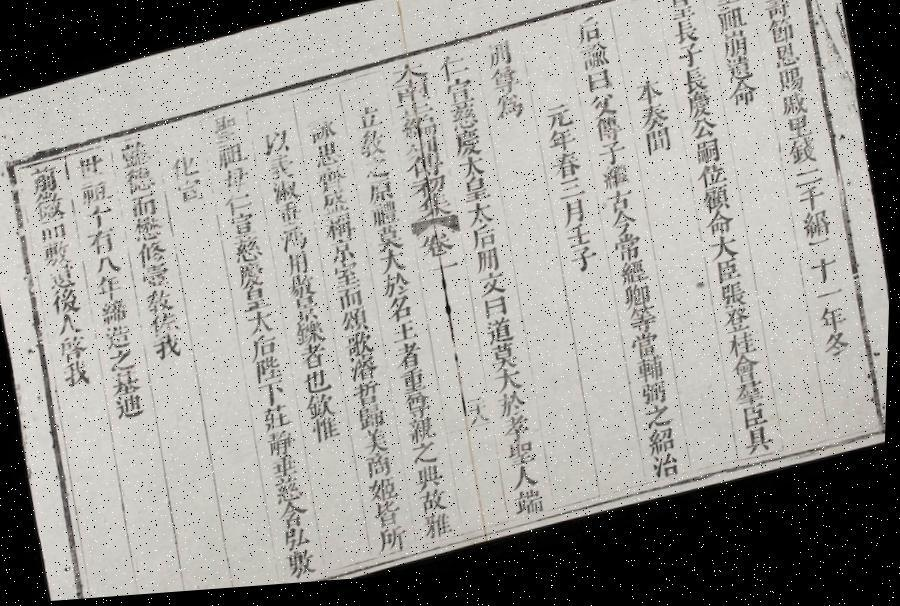c: (416, 233, 460, 270), (403, 153, 447, 189), (397, 116, 442, 151), (29, 188, 70, 226), (412, 196, 456, 230), (799, 218, 838, 256), (282, 550, 323, 586), (406, 176, 452, 208), (480, 44, 520, 80), (390, 84, 434, 116), (785, 146, 823, 183), (206, 114, 244, 151), (807, 264, 845, 301), (116, 138, 155, 174), (445, 106, 484, 142), (512, 493, 552, 528), (54, 332, 94, 367), (386, 64, 432, 94), (628, 338, 666, 374), (271, 476, 309, 512), (26, 162, 64, 198), (815, 314, 853, 350), (150, 332, 188, 368), (570, 21, 609, 56), (59, 358, 98, 393), (392, 100, 439, 129), (486, 70, 524, 105), (576, 47, 614, 82), (724, 88, 762, 123), (548, 156, 586, 191), (108, 368, 147, 402), (420, 514, 459, 548), (76, 177, 115, 211), (434, 56, 473, 90), (354, 131, 390, 167), (450, 133, 487, 168), (376, 528, 414, 562), (486, 347, 524, 381), (728, 364, 766, 398), (742, 435, 780, 469), (440, 80, 478, 114), (39, 238, 77, 272), (84, 226, 122, 260), (712, 14, 750, 48), (630, 84, 668, 118), (48, 286, 86, 320), (378, 274, 416, 308), (321, 216, 359, 250), (304, 117, 340, 152), (258, 130, 295, 164), (491, 98, 528, 132), (371, 502, 408, 536), (265, 430, 302, 464), (135, 238, 172, 272), (122, 166, 159, 200), (366, 478, 404, 511), (276, 502, 314, 535), (720, 64, 758, 97), (720, 315, 758, 348), (112, 393, 150, 426), (724, 339, 762, 372), (213, 143, 251, 176), (412, 467, 448, 501), (646, 434, 682, 468), (260, 404, 296, 438), (611, 241, 647, 275), (142, 286, 178, 320), (392, 344, 428, 378), (304, 394, 340, 428), (636, 110, 672, 144), (400, 395, 437, 428), (625, 313, 662, 346), (504, 443, 541, 476), (234, 262, 271, 295), (139, 262, 176, 295), (72, 151, 109, 184), (314, 168, 351, 201), (81, 202, 119, 234), (732, 388, 770, 420), (426, 263, 464, 295), (700, 194, 735, 228), (226, 213, 262, 246), (276, 227, 312, 260), (758, 1, 794, 34), (650, 459, 686, 492), (664, 0, 700, 33), (567, 252, 603, 285), (717, 39, 753, 72), (460, 181, 496, 214), (168, 153, 204, 186), (310, 418, 346, 451), (372, 228, 408, 261), (347, 358, 383, 391), (44, 262, 81, 294), (309, 144, 346, 176), (795, 195, 832, 227), (483, 322, 520, 354), (290, 298, 325, 331), (764, 27, 799, 60), (821, 341, 856, 374), (351, 107, 386, 140), (405, 420, 441, 452), (495, 396, 531, 428), (231, 238, 267, 270), (703, 218, 739, 250), (396, 371, 432, 403), (541, 108, 577, 140), (617, 266, 653, 298), (621, 290, 657, 322), (634, 364, 670, 396), (708, 243, 744, 275), (297, 345, 333, 377), (244, 311, 280, 343), (599, 170, 635, 202), (263, 156, 299, 188), (368, 204, 404, 236), (338, 310, 374, 342), (218, 167, 255, 198), (293, 322, 330, 353), (401, 140, 445, 166), (678, 75, 712, 108), (718, 290, 752, 323), (356, 405, 390, 438), (559, 204, 592, 238), (642, 136, 676, 169), (102, 322, 137, 354), (774, 77, 809, 109), (360, 431, 395, 463), (363, 454, 398, 486), (769, 52, 804, 84), (127, 192, 162, 224), (93, 273, 128, 305), (586, 98, 621, 130), (595, 146, 630, 178), (97, 298, 132, 330), (318, 193, 354, 224), (642, 411, 678, 442), (256, 382, 292, 413), (509, 469, 545, 500), (492, 372, 528, 403), (417, 491, 453, 522), (694, 171, 730, 202), (463, 206, 499, 237), (268, 180, 304, 211), (147, 312, 184, 342), (174, 179, 208, 211), (360, 158, 394, 190), (330, 265, 364, 297), (301, 370, 335, 402), (376, 252, 410, 284), (384, 299, 418, 331), (592, 122, 626, 154), (683, 100, 717, 132), (53, 310, 88, 341), (281, 527, 316, 558), (777, 101, 812, 132), (131, 216, 166, 247), (252, 358, 288, 388), (222, 191, 258, 221), (738, 413, 774, 443), (602, 196, 638, 226), (408, 444, 444, 474), (268, 455, 304, 485), (544, 134, 580, 164), (638, 388, 674, 418), (454, 159, 490, 189), (326, 242, 362, 272), (342, 334, 378, 364), (790, 176, 828, 204), (674, 50, 707, 82), (670, 25, 702, 58), (608, 216, 641, 248), (472, 252, 505, 284), (248, 336, 283, 366), (351, 384, 386, 414), (501, 420, 536, 450), (285, 276, 320, 306), (467, 230, 502, 260), (714, 266, 746, 298), (692, 147, 724, 179), (563, 230, 597, 260), (582, 75, 616, 105), (240, 288, 274, 318), (274, 204, 308, 234), (364, 182, 398, 212), (105, 347, 140, 376), (36, 219, 72, 247), (481, 299, 514, 329), (477, 277, 510, 307), (555, 183, 589, 212), (687, 125, 721, 154), (782, 125, 816, 154), (389, 324, 424, 352), (283, 252, 315, 282), (90, 252, 124, 280), (334, 290, 368, 318), (812, 295, 848, 319), (706, 0, 745, 22), (805, 246, 836, 266), (751, 0, 791, 10), (470, 420, 494, 434), (470, 402, 490, 415), (470, 411, 490, 424)
